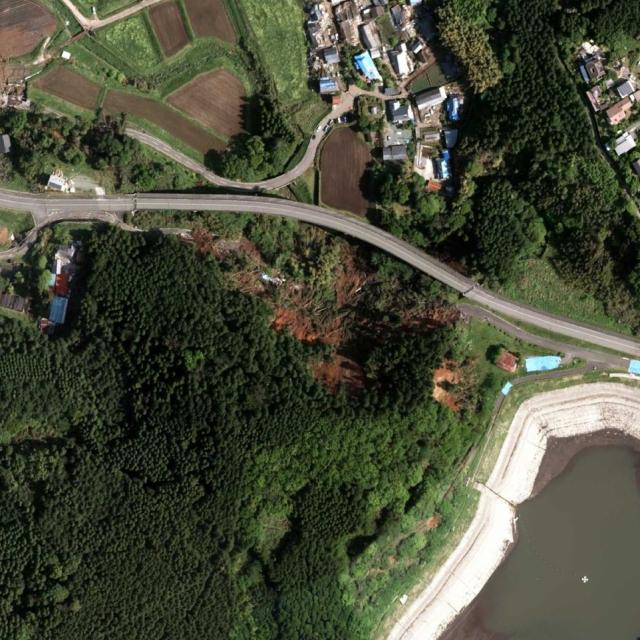landslide: (220, 215, 456, 391)
